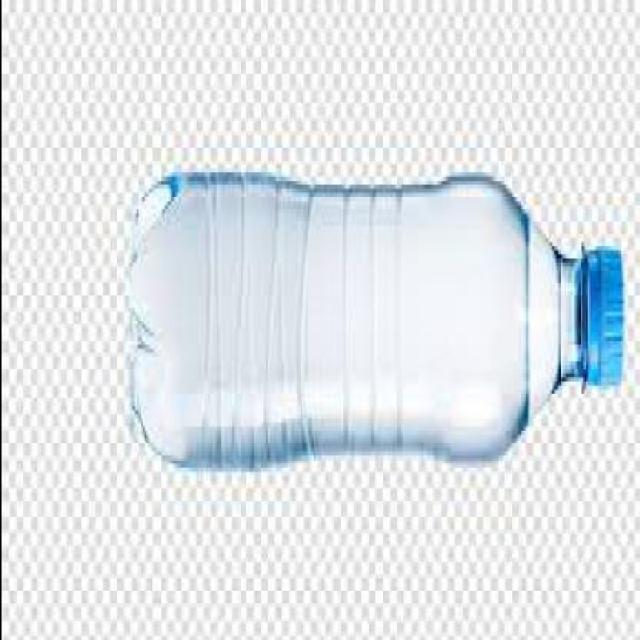PLASTIC: (132, 164, 622, 468), (580, 242, 626, 381)
